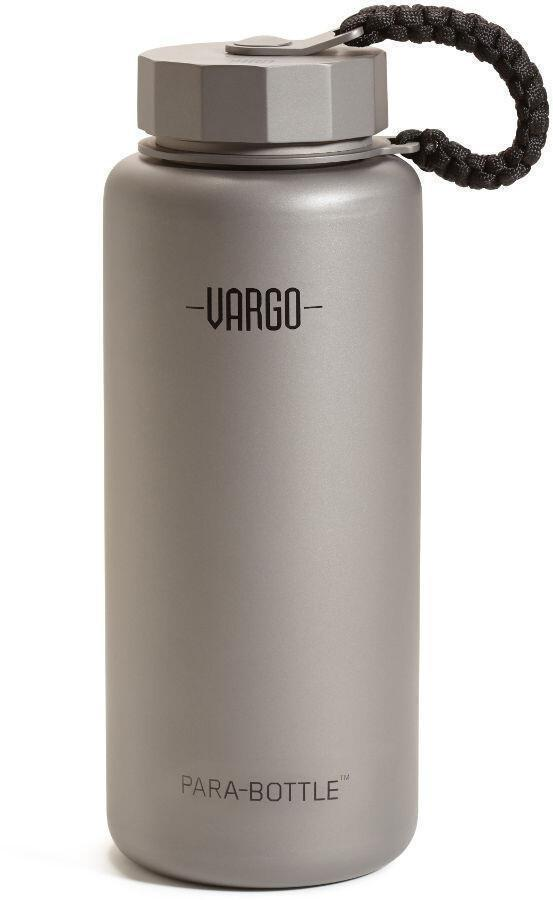gym bottle: (84, 1, 553, 899)
